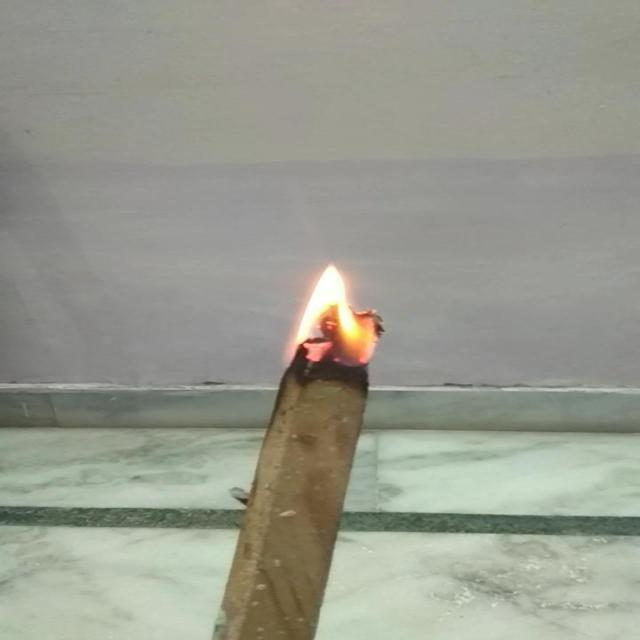smoke: (265, 259, 387, 375)
